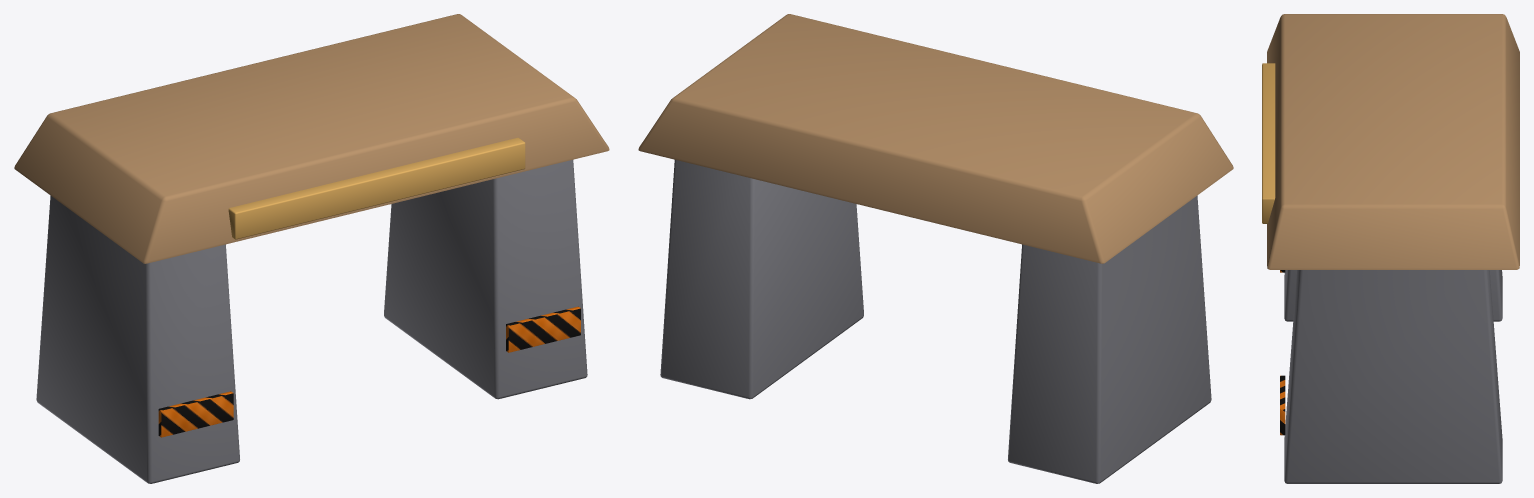
File: crater_bunker_arch.glb
3 views of the same model, side by side, from view 1: azimuth 30°, elevation 25°; view 2: azimuth 150°, elevation 25°; view 3: azimuth 270°, elevation 25° (orthographic). The views are drawn at different scales.
Parts seen in each view (by area): view 1: PropBody_A1_CharcoalArmor, PropBody_A1_OchreDust, PropBody_A1_HeatBrass, PropBody_A1_Hazard; view 2: PropBody_A1_OchreDust, PropBody_A1_CharcoalArmor; view 3: PropBody_A1_OchreDust, PropBody_A1_CharcoalArmor, PropBody_A1_HeatBrass, PropBody_A1_Hazard.
Boxes of the visible parts, box(x1,y1,x2,y2) form: PropBody_A1_CharcoalArmor: box(36, 160, 587, 483); PropBody_A1_OchreDust: box(14, 14, 609, 263); PropBody_A1_HeatBrass: box(228, 137, 525, 239); PropBody_A1_Hazard: box(158, 306, 580, 437); PropBody_A1_OchreDust: box(638, 14, 1233, 263); PropBody_A1_CharcoalArmor: box(660, 160, 1211, 483); PropBody_A1_OchreDust: box(1267, 14, 1519, 269); PropBody_A1_CharcoalArmor: box(1284, 270, 1502, 483); PropBody_A1_HeatBrass: box(1262, 63, 1275, 223); PropBody_A1_Hazard: box(1280, 270, 1285, 435).
Bounding box in the file's own units: 5.77 × 3.38 × 2.88.
4 materials, 1 textured.
